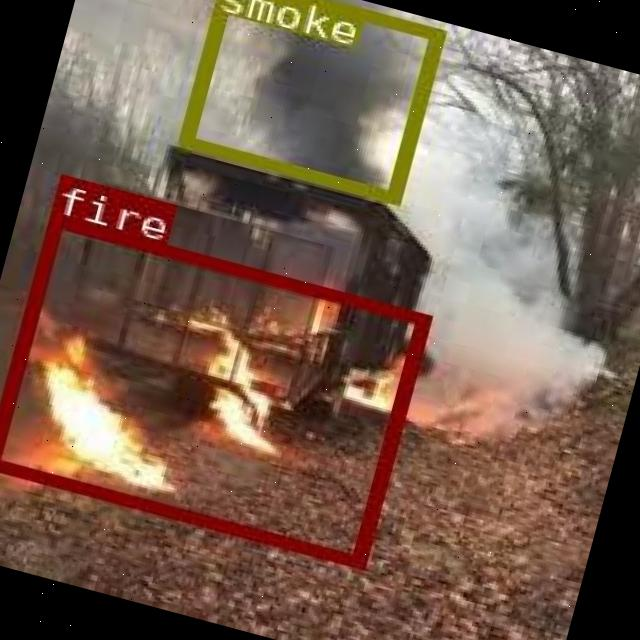fire: (0, 212, 429, 565)
smoke: (175, 0, 443, 203)
